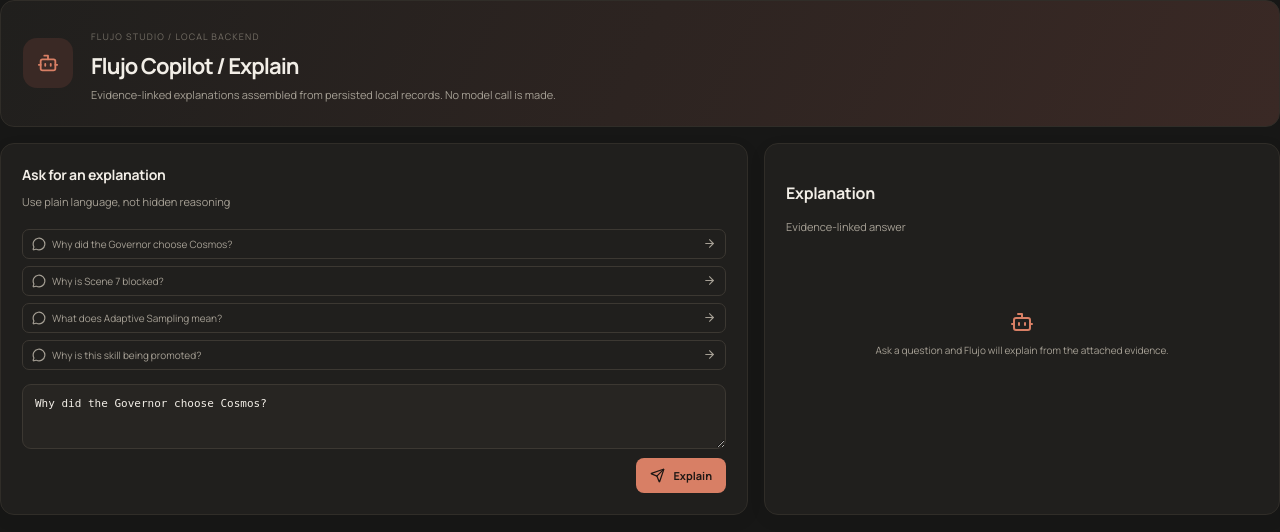
Test: de-simulated surfaces read the local backend › Copilot explains from persisted evidence and says so explicitly
The image size is (1280, 532).
Click the button "Explain". click: click(681, 475)
box: [636,458,726,493]
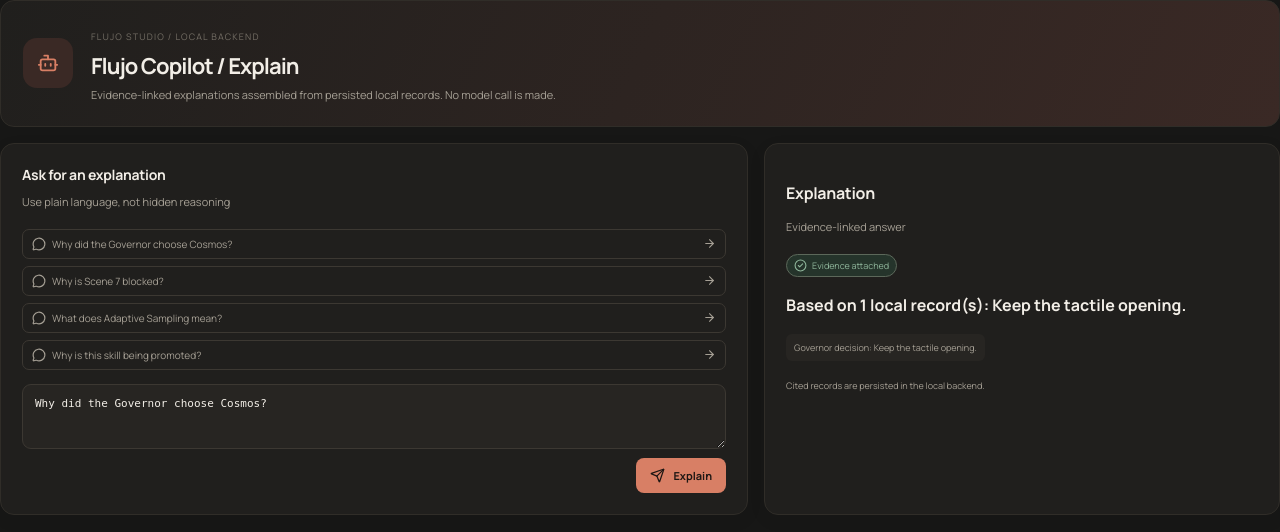
Expected: the heading "Based on 1 local record(s): Keep the tactile opening." is shown, [786,294,1186,316]
